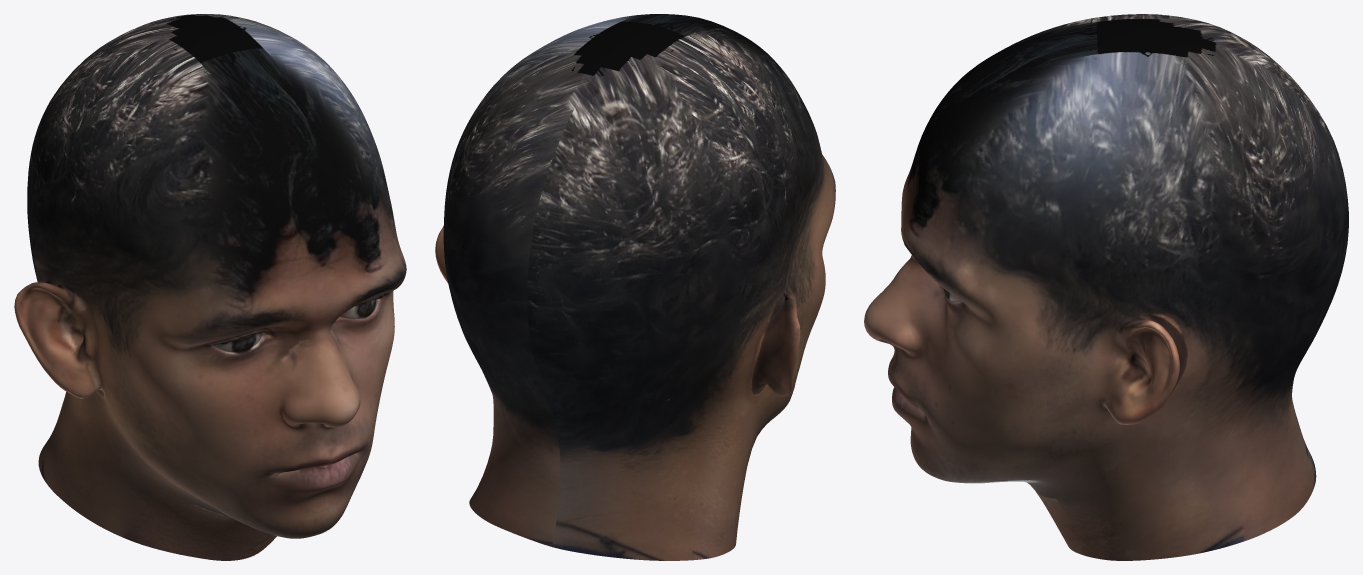
File: aarnavhead.glb
3 renders of one model, left to right at view 1: azimuth 30°, elevation 25°; view 2: azimuth 150°, elevation 25°; view 3: azimuth 270°, elevation 25°, orthographic. The views are drawn at different scales.
Visible parts, largest first — view 1: FBHead; view 2: FBHead; view 3: FBHead.
Boxes of the visible parts, left/top/right/bottom form: FBHead: left=14, top=14, right=406, bottom=560; FBHead: left=435, top=14, right=835, bottom=560; FBHead: left=864, top=14, right=1348, bottom=560.
Bounding box in the file's own units: 1.7 × 2.26 × 1.94.
Materials: 1 (1 with a texture image).
